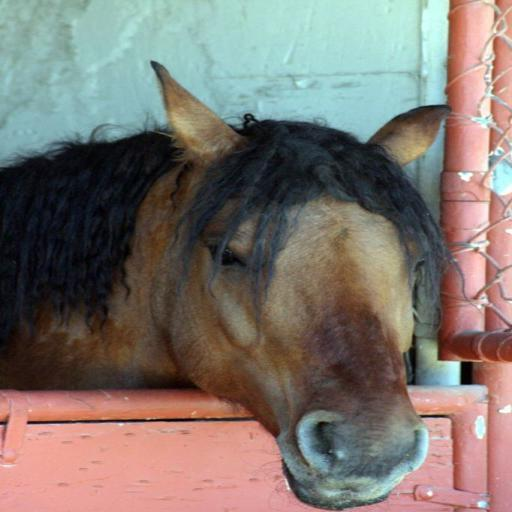horse: (0, 60, 454, 511)
